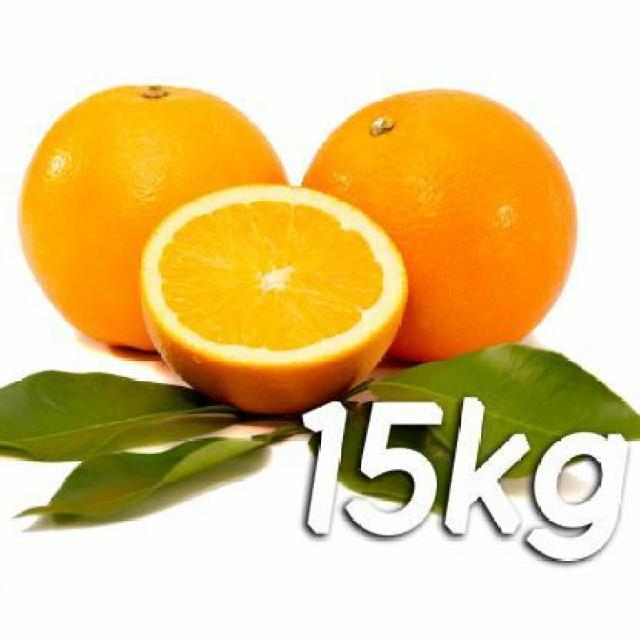Jeruk Sudah Matang: (291, 86, 578, 360), (25, 83, 302, 352)
